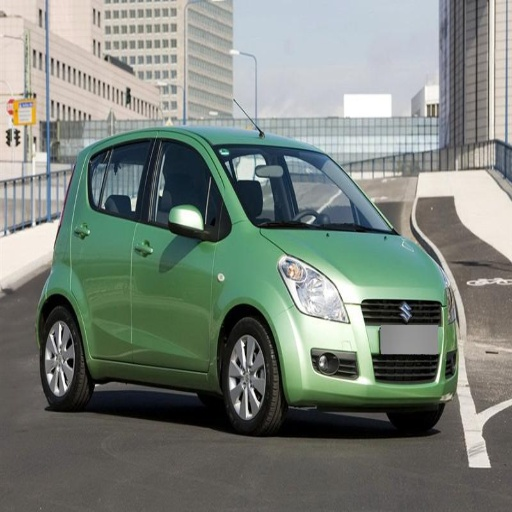front_bumper: (275, 297, 459, 412)
front_right_door: (132, 135, 226, 371)
front_right_light: (279, 257, 347, 322)
